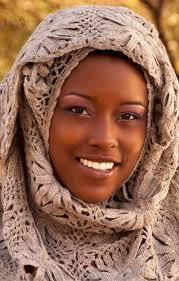No Mask: (38, 33, 179, 229)
